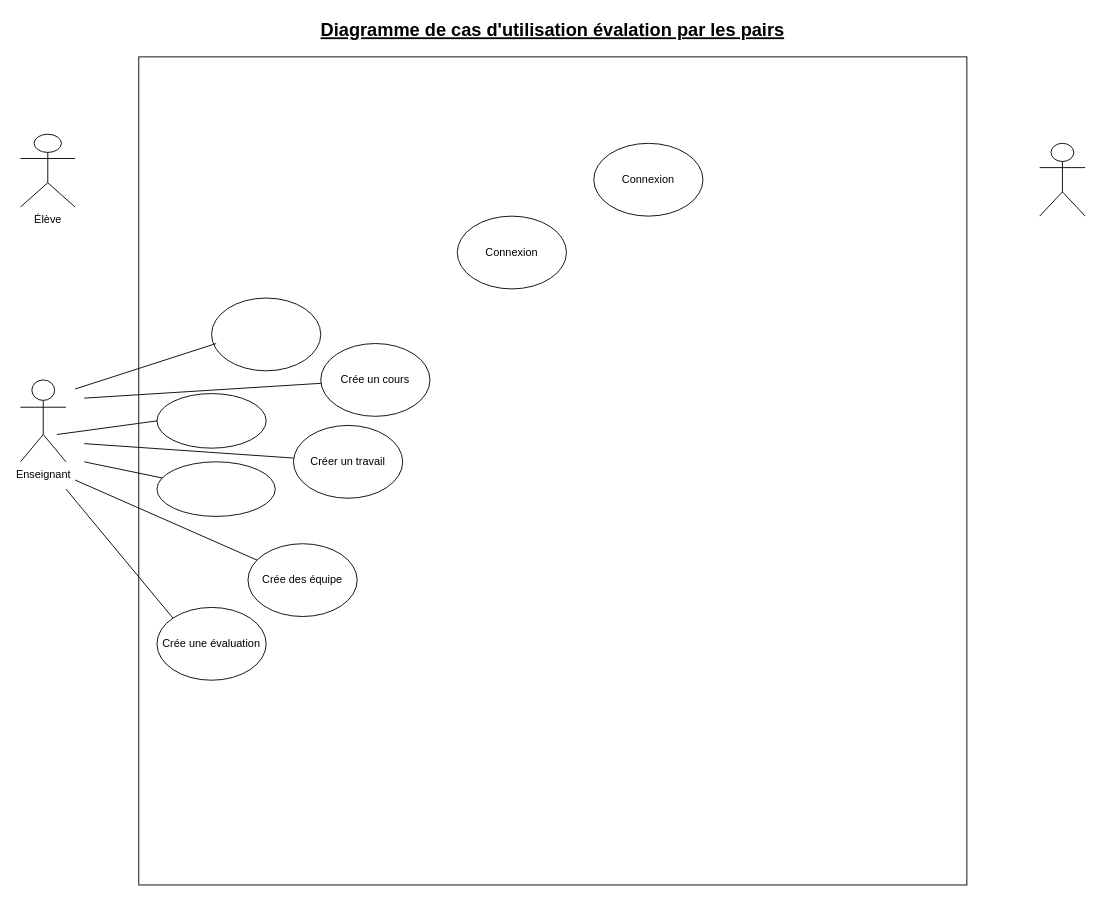
Image size: 1115x901. Some labels were removed from this diagram. The shapes that lost their labels are listed below. From the top down, each one's box as (x1, y1, x2, y2) in pixels, then its label:
(1039, 142, 1085, 216): << Système >>
(211, 297, 321, 371): Créer cours
(156, 393, 266, 448): Créer un groupe
(156, 461, 275, 516): Assigner élèves dans une équipe
